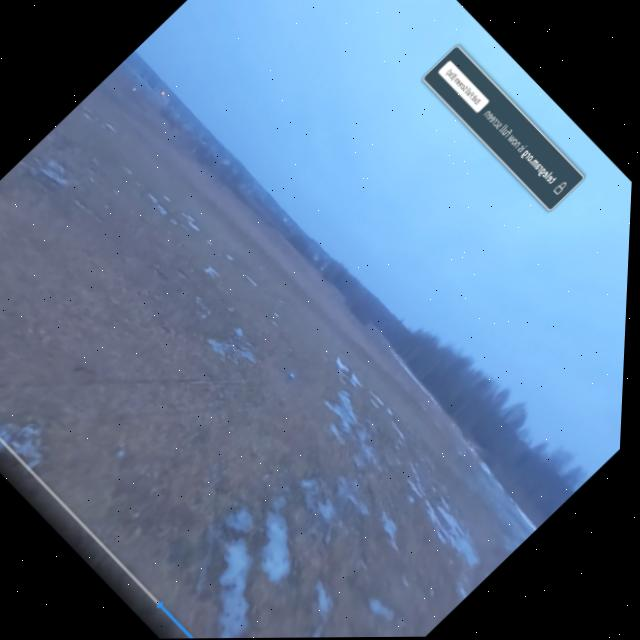planedrone: (270, 354, 309, 391)
